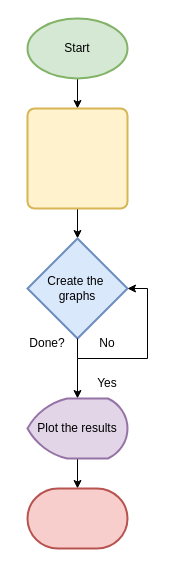
Image size: 173x566. Some labels were removed from this diagram. Each missing label, with the box of its shape:
Define the data points: (26, 107, 128, 209)
Terminate: (26, 487, 128, 549)
